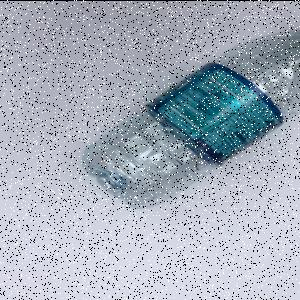Plastic-bottle: (81, 28, 300, 210)
